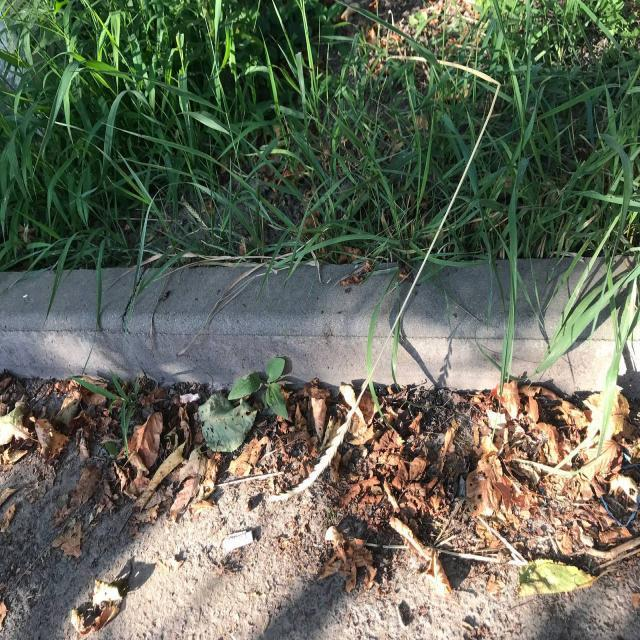bump: (0, 250, 395, 402)
